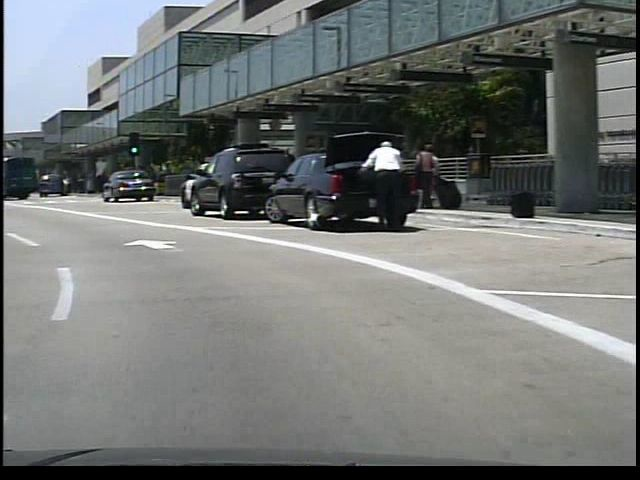person: (351, 135, 403, 234), (411, 139, 433, 214), (407, 142, 429, 213)
